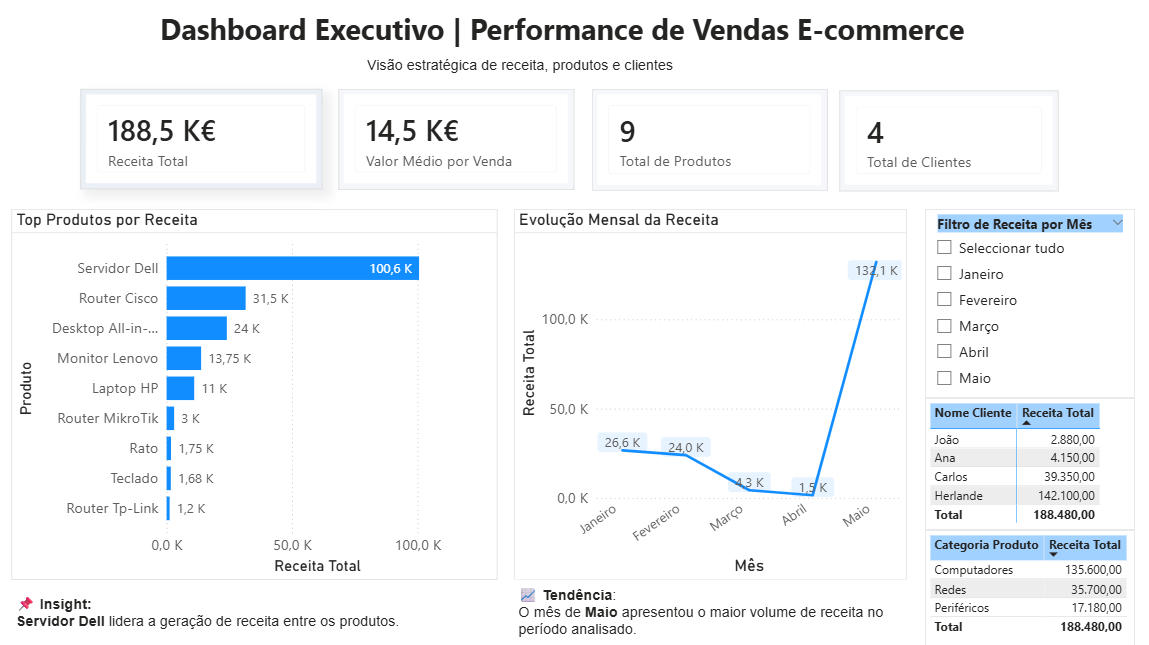

Layout of this report page (visuals, bound fields, positions):
{"tool":"powerbi","page":{"name":"dashboard_ecommerce","canvas":[1280,720],"ordinal":0},"visuals":[{"type":"lineChart","title":"Evolução Mensal da Receita","fields":{"Y":["Vendas .Receita Total"],"Category":["Data Venda.Mês"]},"box":[573.3,233.3,436.7,411.7],"z":0},{"type":"pivotTable","fields":{"Rows":["Clientes.Nome Cliente"],"Values":["Vendas .Receita Total"]},"box":[1030,443,233.3,146.7],"z":1000},{"type":"clusteredBarChart","title":"Top Produtos por Receita","fields":{"Category":["dim_produtos.nome"],"Y":["fato_vendas.Receita Total"]},"box":[15,233.3,540,411.7],"z":2000},{"type":"textbox","box":[175,5,968.3,53.3],"z":3000},{"type":"textbox","box":[405,58.3,470,38.3],"z":4000},{"type":"cardVisual","fields":{"Data":["fato_vendas.Receita Total"]},"box":[91.7,100,268.3,111],"z":5000},{"type":"textbox","box":[15,655,453.3,51.7],"z":6000},{"type":"slicer","fields":{"Values":["Data Venda.Mês"]},"box":[1030,233.3,233.3,210],"z":7000},{"type":"pivotTable","fields":{"Rows":["Produtos.Categoria Produto"],"Values":["Vendas .Receita Total"]},"box":[1030,590,233.3,128.3],"z":8000},{"type":"cardVisual","fields":{"Data":["Vendas .Ticket Médio"]},"box":[378.3,100,261.7,111.7],"z":9000},{"type":"cardVisual","fields":{"Data":["Vendas .Total Clientes"]},"box":[935,101.7,243.3,111.7],"z":10000},{"type":"cardVisual","fields":{"Data":["Vendas .Total Produtos"]},"box":[660,100,261.7,113.3],"z":11000},{"type":"textbox","box":[573.3,645,436.7,73.3],"z":12000}]}

Visuals, with their boxes in screenshot pixels (x1, y1, x2, y2), scaled from the page's 1280x720 canvas onto the 1149x645 screenshot:
"Evolução Mensal da Receita" lineChart: crop(515, 209, 907, 578)
pivotTable - Clientes.Nome Cliente x Vendas .Receita Total: crop(925, 397, 1134, 528)
"Top Produtos por Receita" clusteredBarChart: crop(13, 209, 498, 578)
textbox: crop(157, 4, 1026, 52)
textbox: crop(364, 52, 785, 87)
cardVisual - fato_vendas.Receita Total: crop(82, 90, 323, 189)
textbox: crop(13, 587, 420, 633)
slicer - Data Venda.Mês: crop(925, 209, 1134, 397)
pivotTable - Produtos.Categoria Produto x Vendas .Receita Total: crop(925, 529, 1134, 643)
cardVisual - Vendas .Ticket Médio: crop(340, 90, 574, 190)
cardVisual - Vendas .Total Clientes: crop(839, 91, 1058, 191)
cardVisual - Vendas .Total Produtos: crop(592, 90, 827, 191)
textbox: crop(515, 578, 907, 643)
